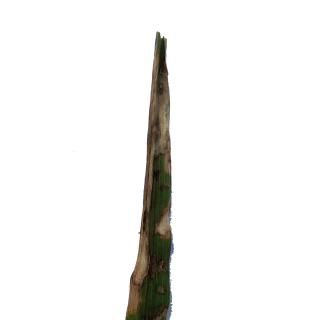Hawar-Daun: (153, 35, 171, 140), (133, 222, 157, 282), (142, 173, 164, 214), (130, 280, 149, 316), (156, 204, 172, 244), (148, 144, 169, 172), (154, 282, 167, 300)
